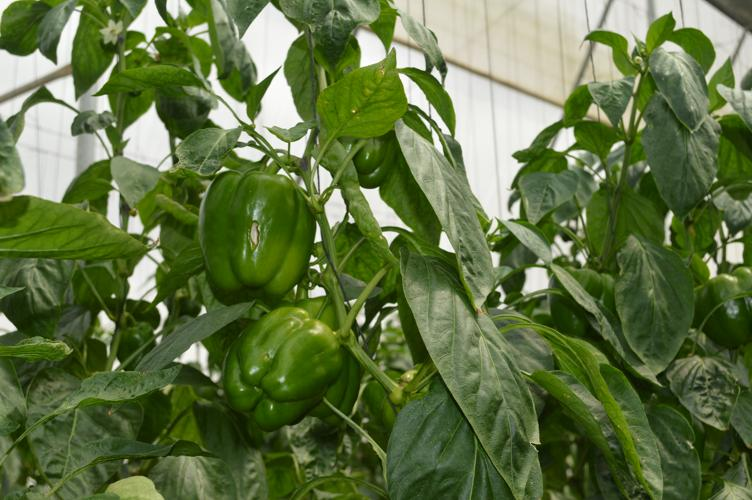BellPepper: (218, 307, 344, 429), (198, 169, 317, 290), (306, 297, 358, 425), (687, 266, 750, 350), (542, 265, 614, 338), (339, 129, 397, 188)
